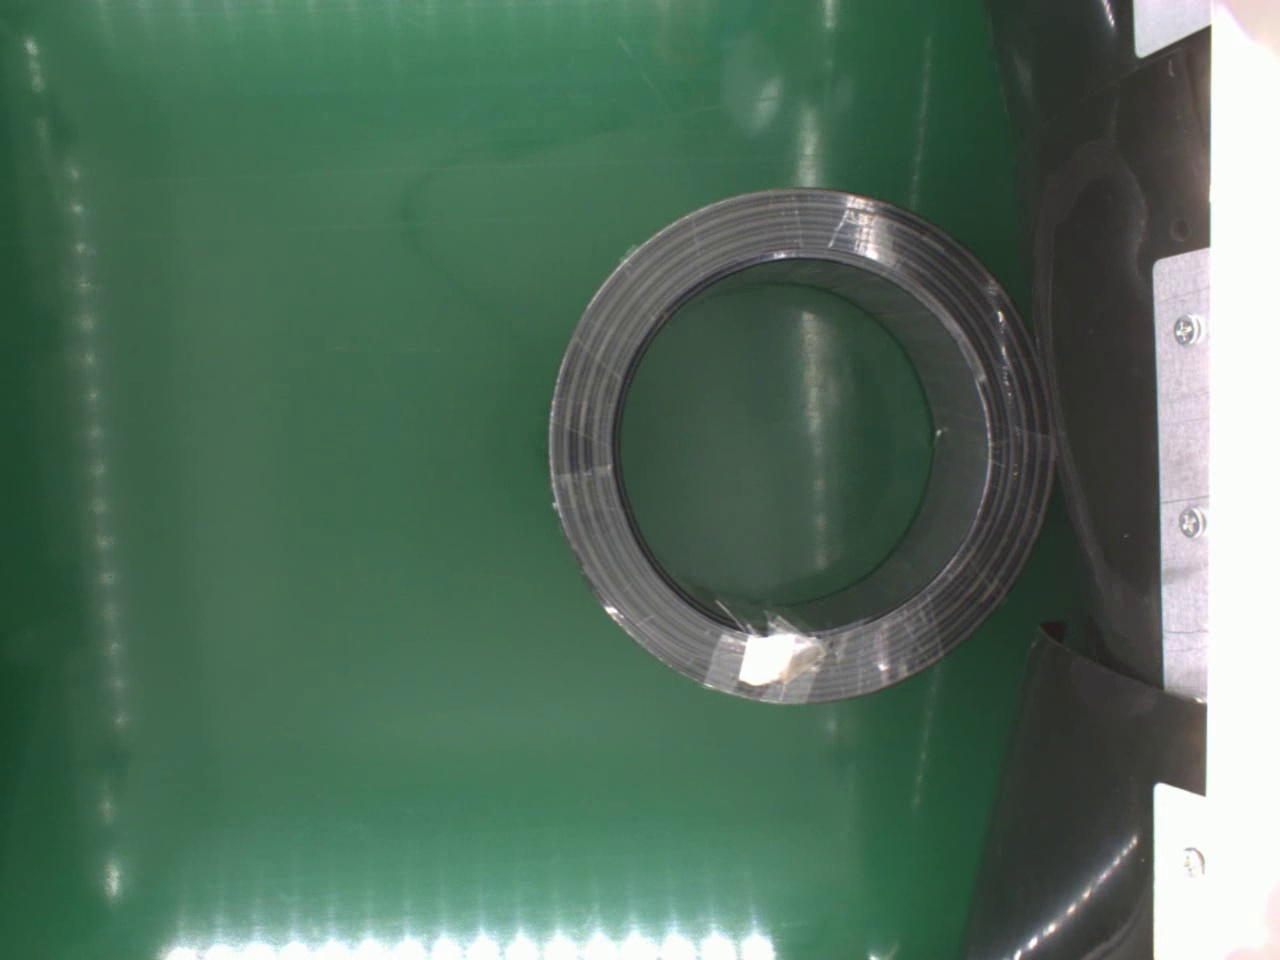black: (545, 183, 1060, 711)
